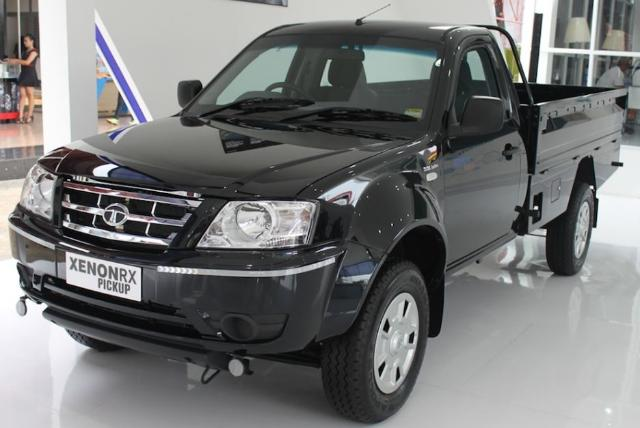pickup-truck: (4, 18, 627, 422)
